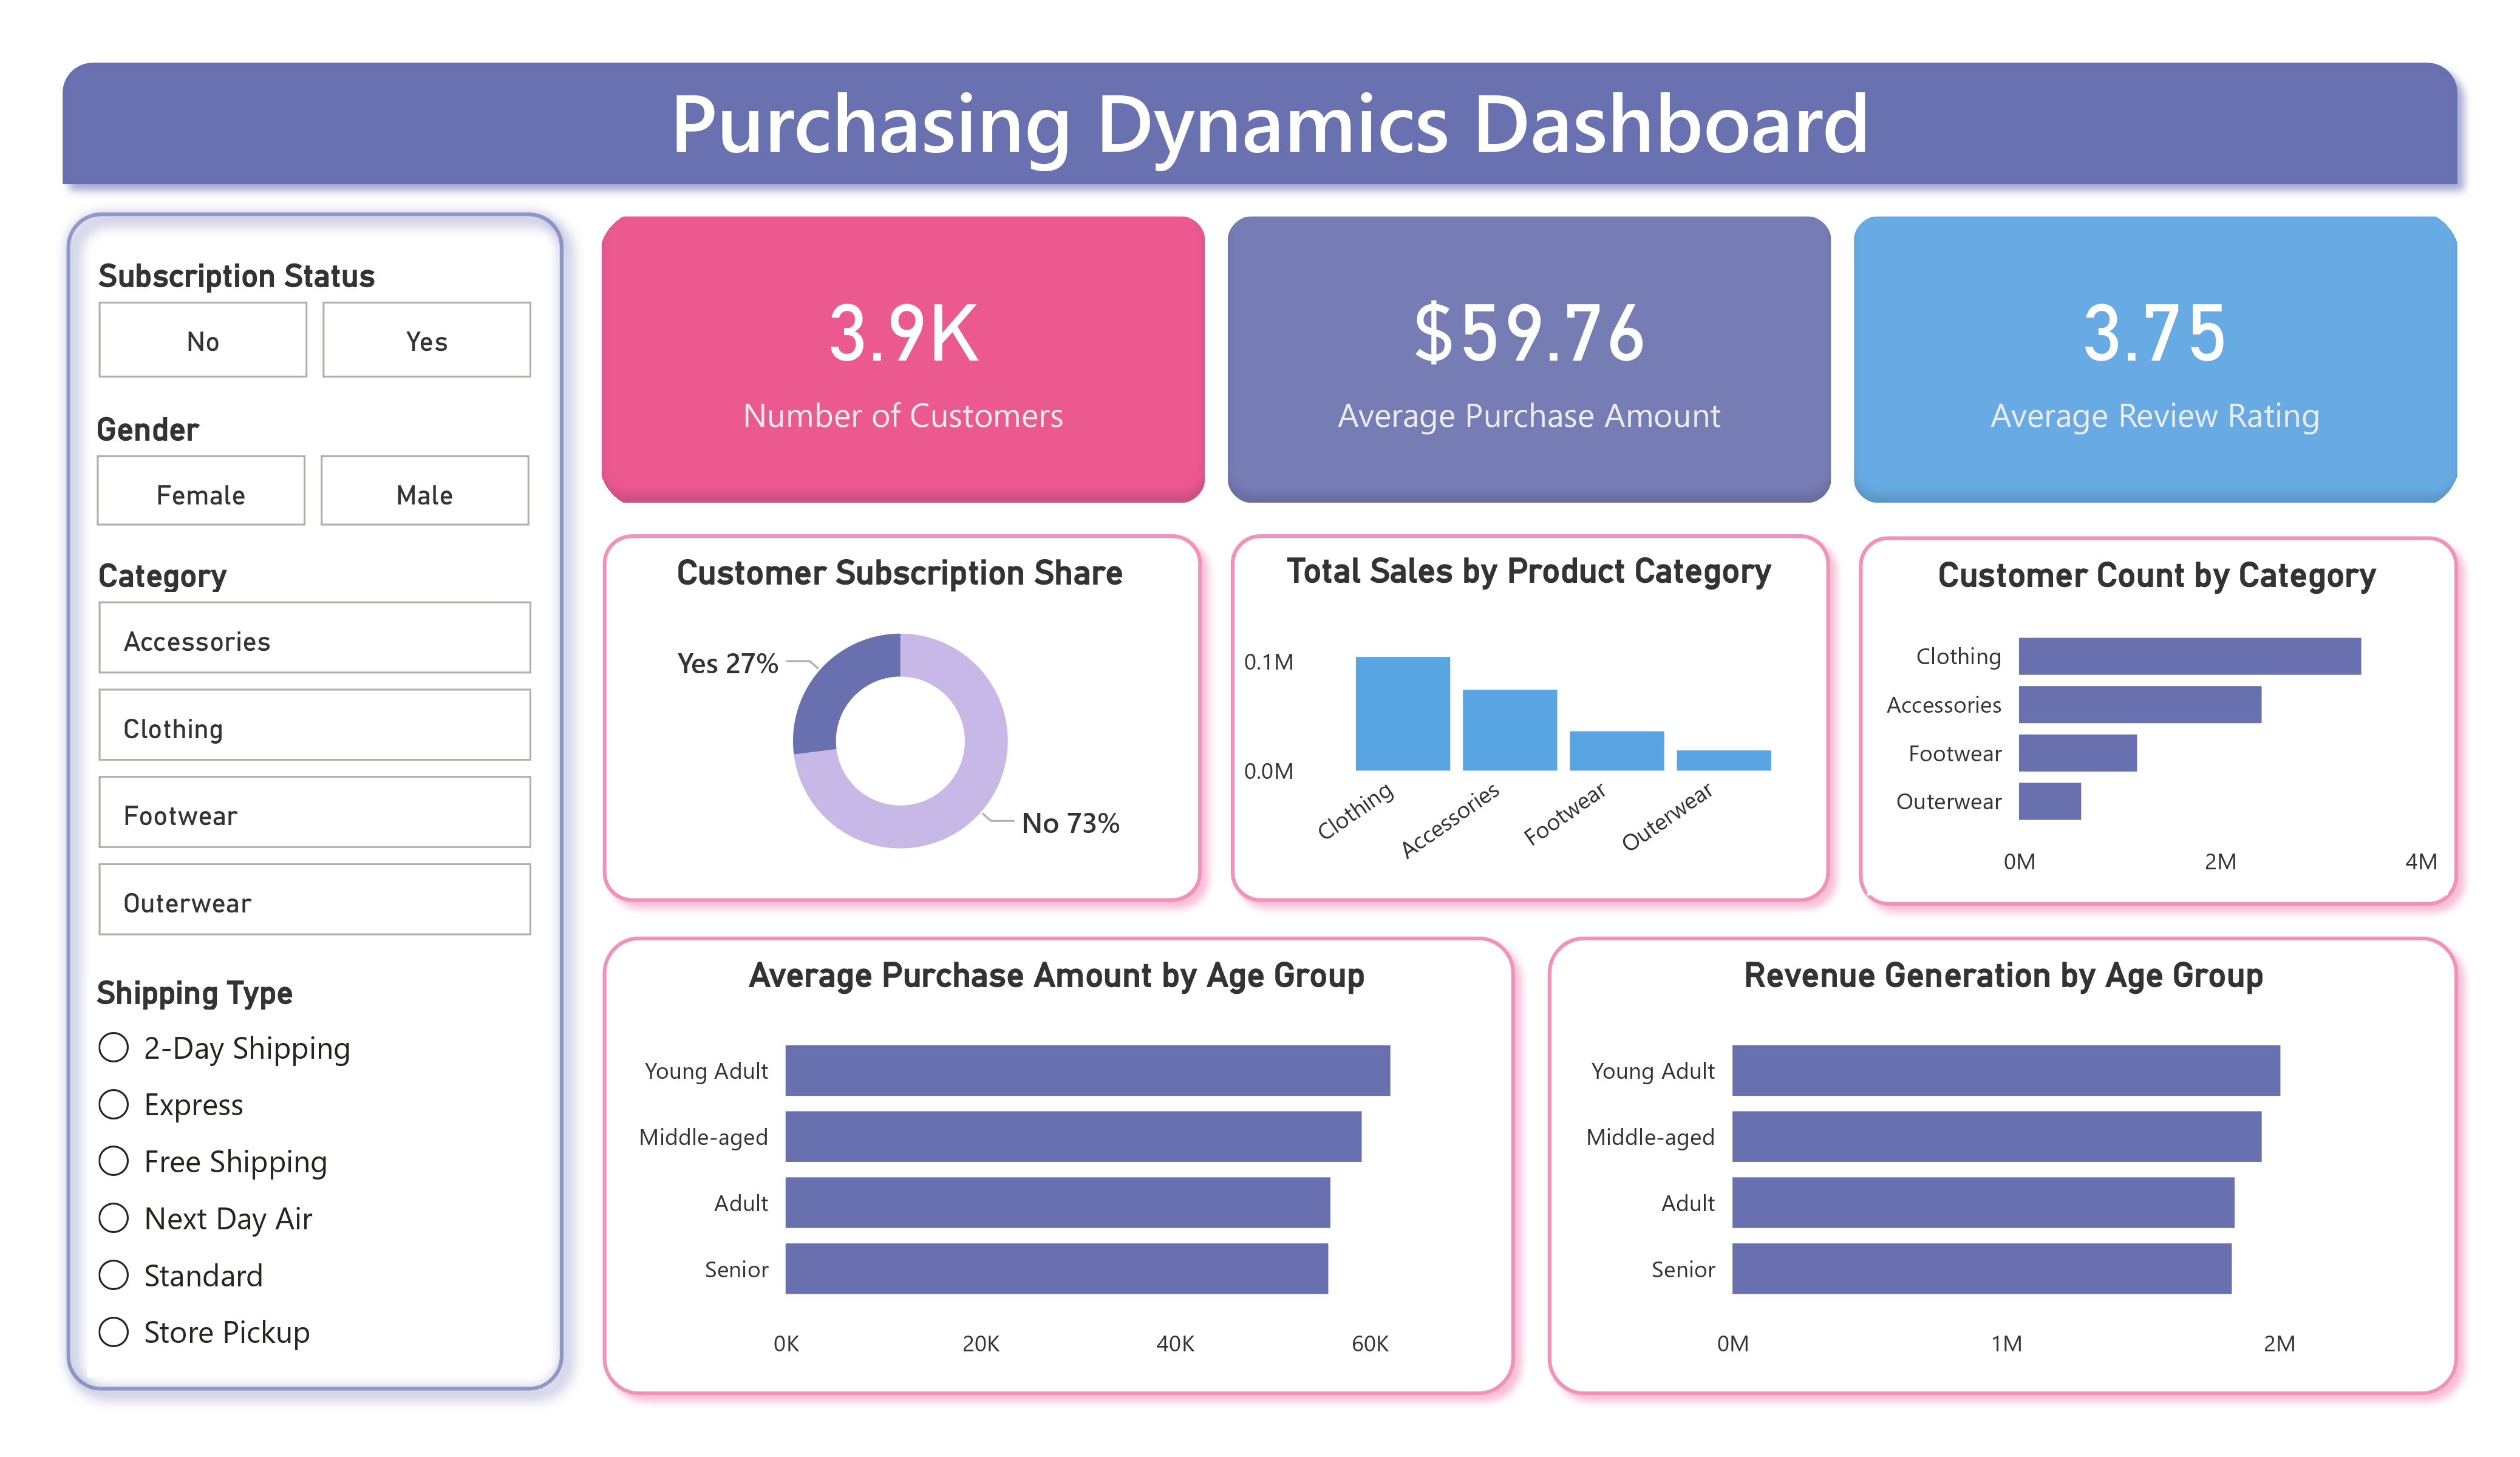

What the dashboard file says about the page in this screenshot:
{"tool":"powerbi","page":{"name":"Page 1","canvas":[1280,720],"ordinal":0},"visuals":[{"type":"shape","box":[284.9,249.5,333.2,211.4],"z":0,"group":"g1"},{"type":"cardVisual","fields":{"Data":["customer customer_shopping_behavior.Number of Customers","customer customer_shopping_behavior.Average Purchase Amount","customer customer_shopping_behavior.Average Review Rating"]},"box":[283.7,81.9,996.6,167.5],"z":0},{"type":"shape","box":[615.8,249.5,333.2,211.4],"z":1000,"group":"g1"},{"type":"shape","box":[284.9,461,497.7,259.2],"z":1000},{"type":"shape","box":[0,0,1280.3,82.3],"z":2000},{"type":"shape","box":[946.7,250.9,333.2,211.4],"z":2000,"group":"g1"},{"type":"textbox","box":[11,4.9,1269.3,73.4],"z":3000},{"type":"shape","box":[0,77,283.7,643.2],"z":4000},{"type":"group","id":"g1","title":"Group 1","box":[284.9,249.5,995.4,212.8],"z":5000},{"type":"donutChart","title":"Customer Subscription Share","fields":{"Category":["customer customer_shopping_behavior.subscription_status"],"Y":["CountNonNull(customer customer_shopping_behavior.customer_id)"]},"box":[302,266.6,297.1,178.5],"z":6000},{"type":"clusteredColumnChart","title":"Total Sales by Product Category","fields":{"Y":["Sum(customer customer_shopping_behavior.purchase_amount)"],"Category":["customer customer_shopping_behavior.category"]},"box":[631,264.1,302,179.8],"z":7000},{"type":"clusteredBarChart","title":"Customer Count by Category","fields":{"Category":["customer customer_shopping_behavior.category"],"Y":["Sum(customer customer_shopping_behavior.customer_id)"]},"box":[959.9,267.8,305.7,179.8],"z":8000},{"type":"advancedSlicerVisual","fields":{"Values":["customer customer_shopping_behavior.subscription_status"]},"box":[23.2,111.3,238.5,70.9],"z":9000},{"type":"advancedSlicerVisual","fields":{"Values":["customer customer_shopping_behavior.gender"]},"box":[22,191.6,238.5,68.5],"z":10000},{"type":"advancedSlicerVisual","fields":{"Values":["customer customer_shopping_behavior.category"]},"box":[23.2,269.4,238.5,210.3],"z":11000},{"type":"listSlicer","fields":{"Values":["customer customer_shopping_behavior.shipping_type"]},"box":[22,489.1,237.2,212.8],"z":12000},{"type":"clusteredBarChart","title":"Average Purchase Amount by Age Group","fields":{"Y":["Sum(customer customer_shopping_behavior.purchase_amount)"],"Category":["customer customer_shopping_behavior.age_group"]},"box":[302,479.4,462.2,222.6],"z":13000},{"type":"shape","box":[782.6,461,497.7,259.2],"z":14000},{"type":"clusteredBarChart","title":"Revenue Generation by Age Group","fields":{"Category":["customer customer_shopping_behavior.age_group"],"Y":["Sum(customer customer_shopping_behavior.customer_id)"]},"box":[801,479.4,462.2,222.6],"z":15000}]}

Visuals, with their boxes in screenshot pixels (x1, y1, x2, y2):
shape: <region>586, 519, 1219, 920</region>
cardVisual - customer customer_shopping_behavior.Number of Customers x customer customer_shopping_behavior.Average Purchase Amount: <region>584, 201, 2474, 518</region>
shape: <region>1214, 519, 1847, 920</region>
shape: <region>586, 920, 1531, 1411</region>
shape: <region>46, 46, 2474, 202</region>
shape: <region>1842, 521, 2474, 923</region>
textbox: <region>66, 55, 2474, 194</region>
shape: <region>46, 192, 584, 1411</region>
"Group 1" group: <region>586, 519, 2474, 923</region>
"Customer Subscription Share" donutChart: <region>619, 551, 1182, 890</region>
"Total Sales by Product Category" clusteredColumnChart: <region>1243, 546, 1816, 888</region>
"Customer Count by Category" clusteredBarChart: <region>1867, 554, 2447, 895</region>
advancedSlicerVisual - customer customer_shopping_behavior.subscription_status: <region>90, 257, 542, 391</region>
advancedSlicerVisual - customer customer_shopping_behavior.gender: <region>87, 409, 540, 539</region>
advancedSlicerVisual - customer customer_shopping_behavior.category: <region>90, 557, 542, 956</region>
listSlicer - customer customer_shopping_behavior.shipping_type: <region>87, 973, 537, 1377</region>
"Average Purchase Amount by Age Group" clusteredBarChart: <region>619, 955, 1496, 1377</region>
shape: <region>1531, 920, 2474, 1411</region>
"Revenue Generation by Age Group" clusteredBarChart: <region>1565, 955, 2442, 1377</region>
